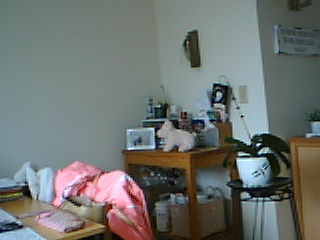piggy: (156, 119, 197, 154)
